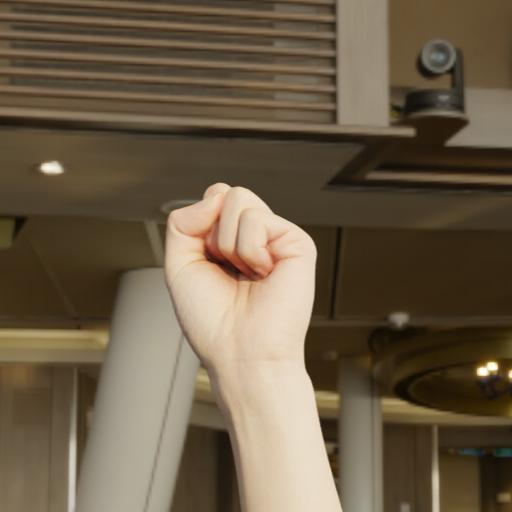S: (140, 149, 330, 373)
